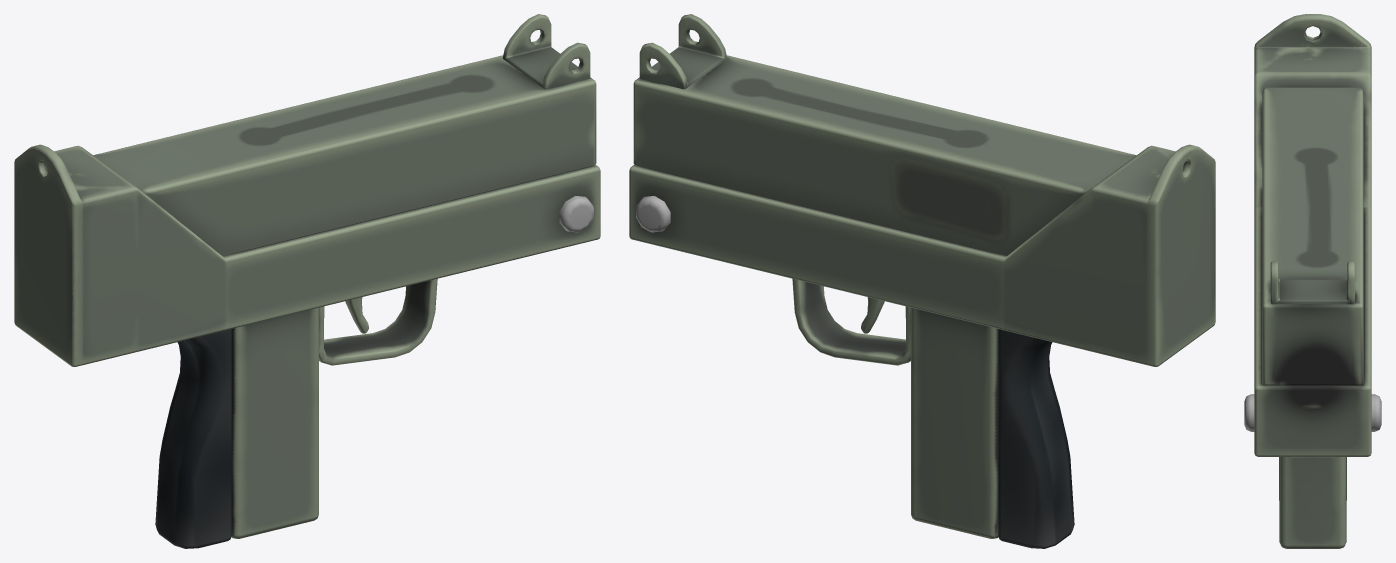
Rendered from weapon-mac10.glb.
3 renders of one model, left to right at view 1: azimuth 30°, elevation 25°; view 2: azimuth 150°, elevation 25°; view 3: azimuth 270°, elevation 25°, orthographic.
Visible parts, largest first — view 1: weapon-mac10; view 2: weapon-mac10; view 3: weapon-mac10.
Part boxes in pixels (x1,y1,x2,y2): weapon-mac10: [14, 14, 600, 548]; weapon-mac10: [629, 14, 1215, 548]; weapon-mac10: [1244, 14, 1381, 548].
Size of the model in its own units: 0.3782 by 0.2882 by 0.0865.
1 material, 1 textured.
